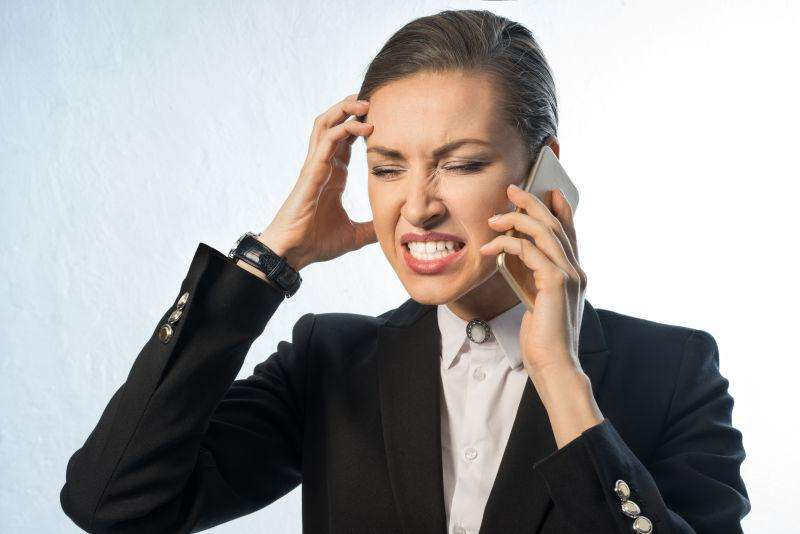calling: (480, 142, 590, 374)
